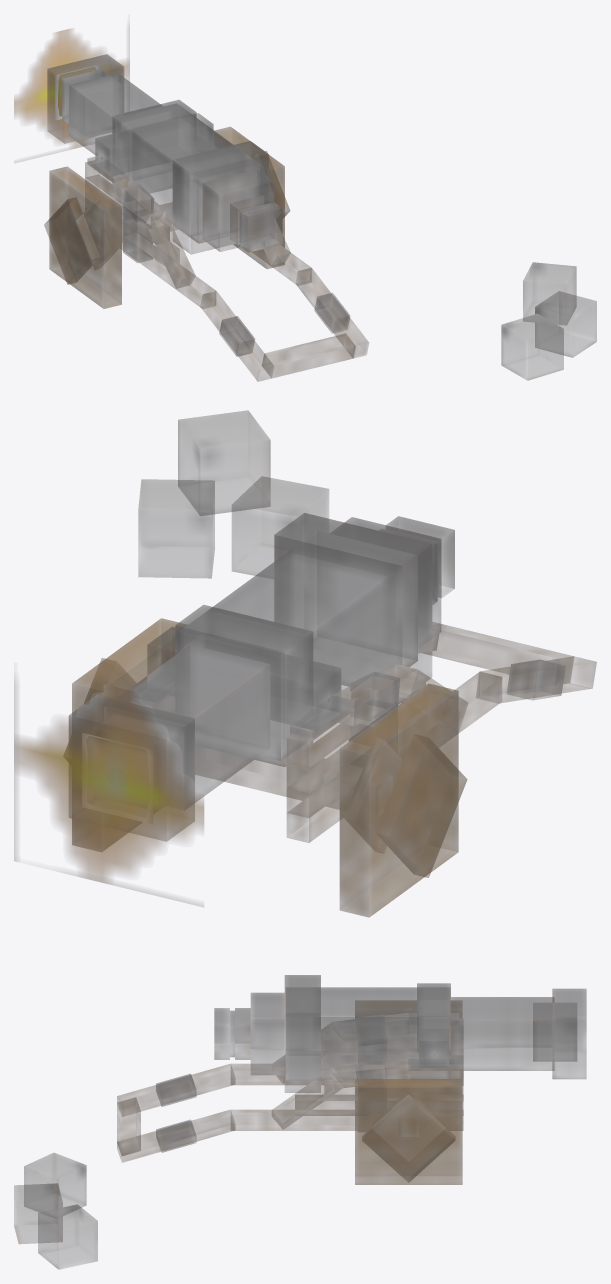
File: Cannon.glb
3 views of the same model, one above another, from view 1: azimuth 30°, elevation 25°; view 2: azimuth 150°, elevation 25°; view 3: azimuth 270°, elevation 25° (orthographic). The views are drawn at different scales.
Visible parts, largest first — view 1: unnamed (×33); view 2: unnamed (×27); view 3: unnamed (×34).
Part boxes in pixels (x1=…): unnamed (×33): x1=14, y1=25, x2=596, y2=381; unnamed (×27): x1=14, y1=410, x2=596, y2=917; unnamed (×34): x1=14, y1=975, x2=586, y2=1269.
Bounding box in the file's own units: 2.43 × 1.16 × 3.52.
1 material, 1 textured.
